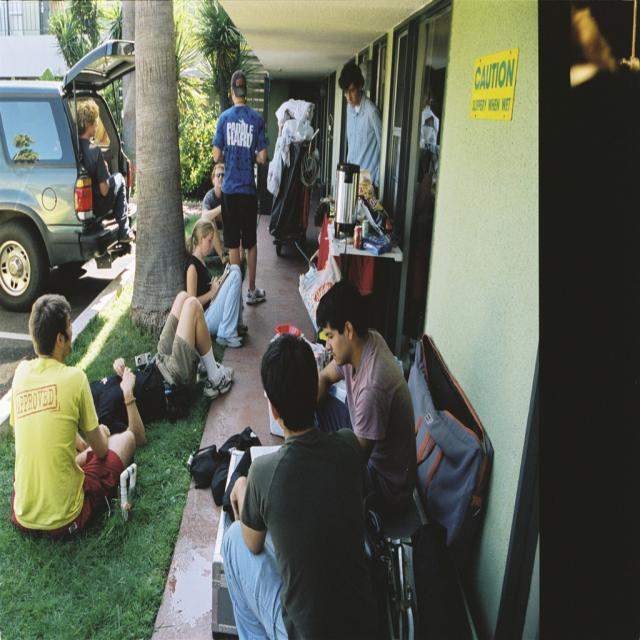car: (0, 59, 134, 292)
